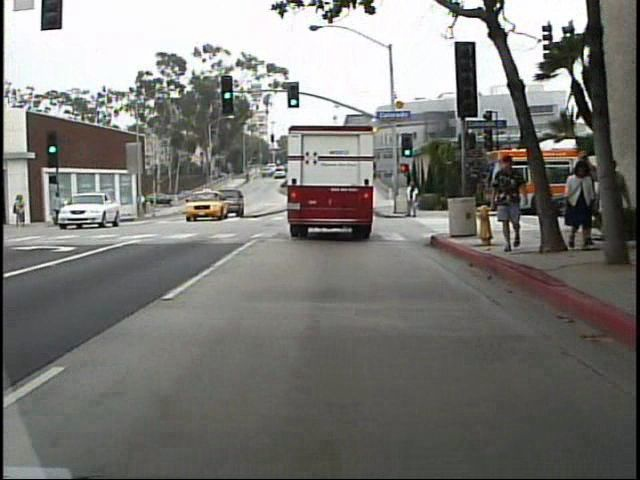person: (499, 147, 542, 258), (565, 153, 602, 252), (599, 155, 633, 254), (7, 189, 34, 235), (401, 176, 426, 221), (134, 187, 151, 220), (51, 189, 63, 212)
